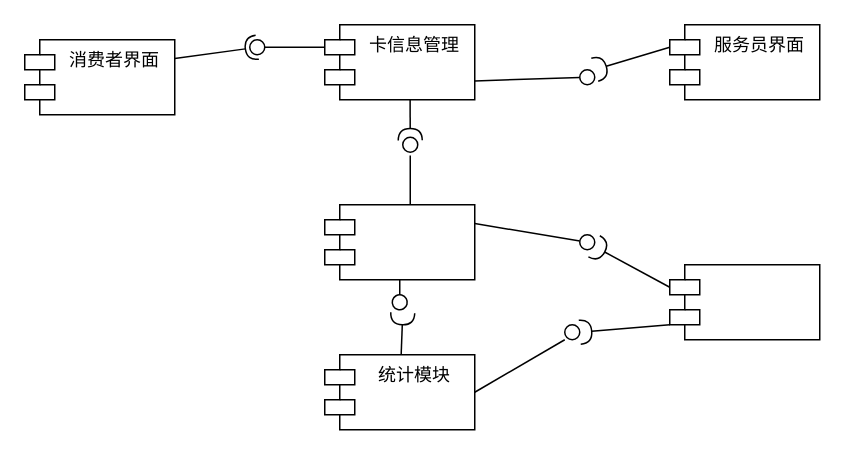
Image size: 845x455. Some labels were removed from this diagram. The shapes that lost their labels are listed below. From the top down, each one's centre as x and y in pixels, then its label:
(x=399, y=241): 交易记录
(x=744, y=301): 管理员界面
